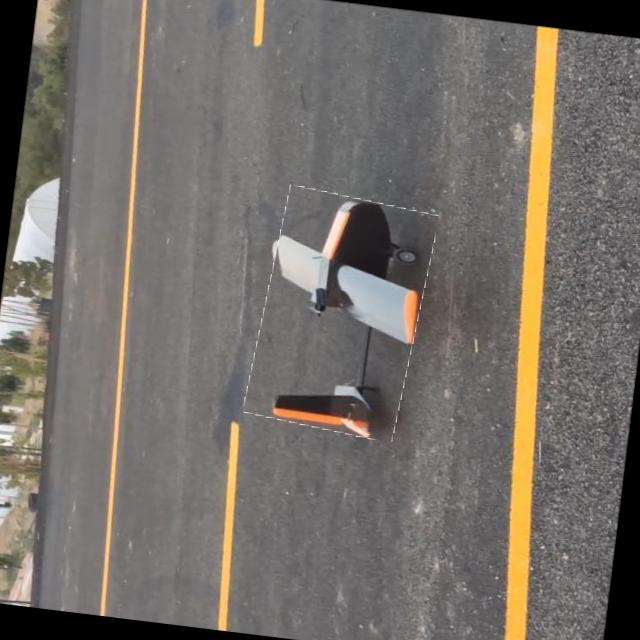UAV: (254, 175, 452, 522)
